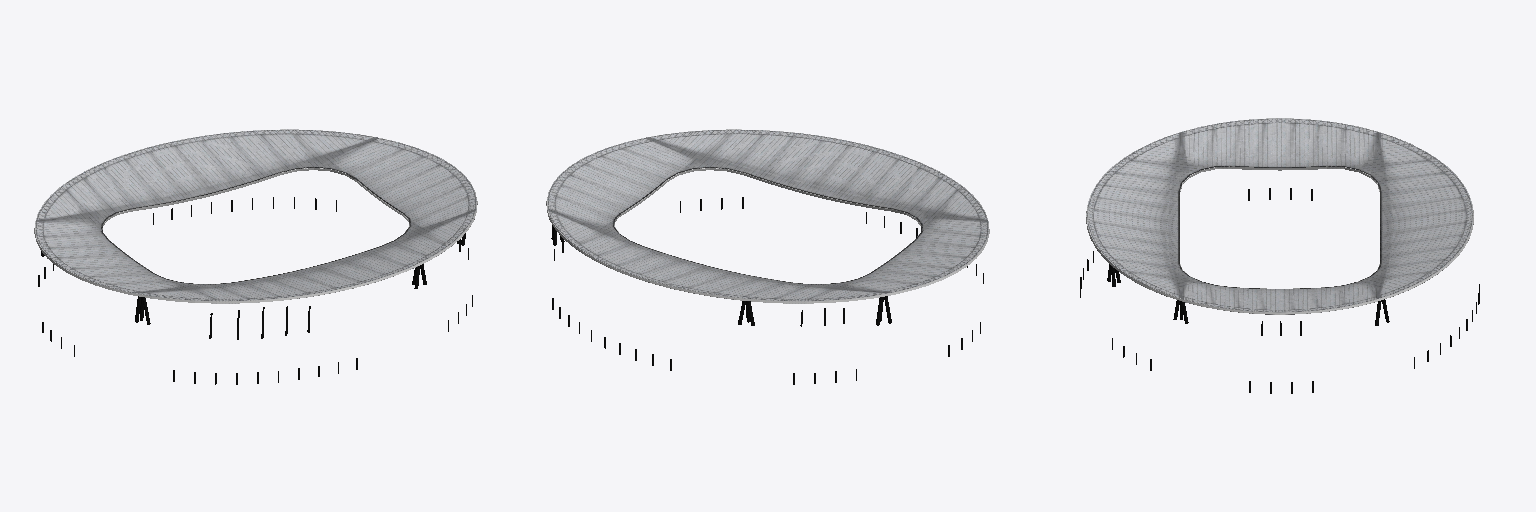
3 views of the same model, side by side, from view 1: azimuth 30°, elevation 25°; view 2: azimuth 150°, elevation 25°; view 3: azimuth 270°, elevation 25° (orthographic).
Visible parts, largest first — view 1: nmodel_10_27_roof, nmodel_10_27_pipes4; view 2: nmodel_10_27_roof, nmodel_10_27_pipes4; view 3: nmodel_10_27_roof, nmodel_10_27_pipes4.
Boxes of the visible parts, <box> form: nmodel_10_27_roof: <box>34,129,477,303</box>; nmodel_10_27_pipes4: <box>38,197,472,384</box>; nmodel_10_27_roof: <box>546,129,989,303</box>; nmodel_10_27_pipes4: <box>551,197,983,384</box>; nmodel_10_27_roof: <box>1086,118,1473,314</box>; nmodel_10_27_pipes4: <box>1080,188,1479,393</box>.
Bounding box in the file's own units: 234 × 45.54 × 203.
Materials: 2 (1 with a texture image).